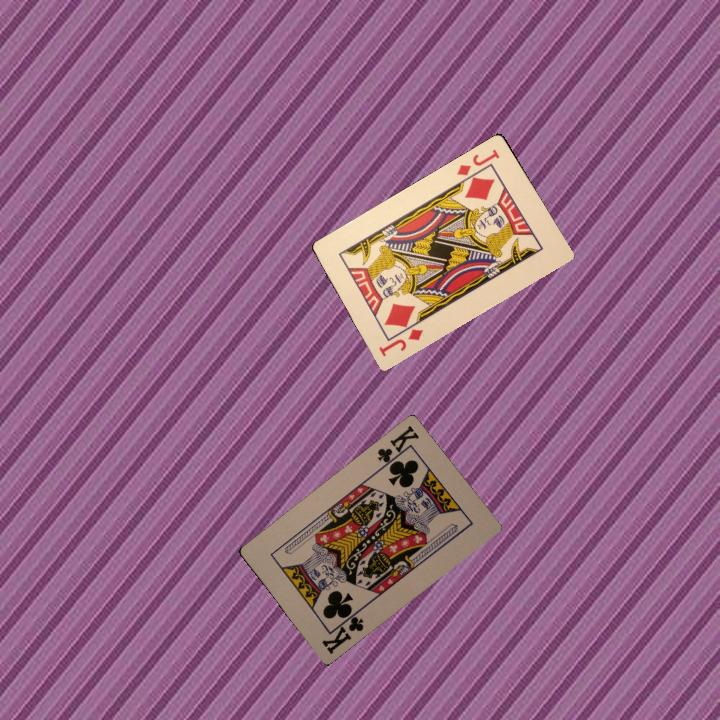Jd: (374, 324, 426, 359), (453, 145, 502, 179)
Kc: (373, 421, 422, 471), (318, 607, 366, 656)
